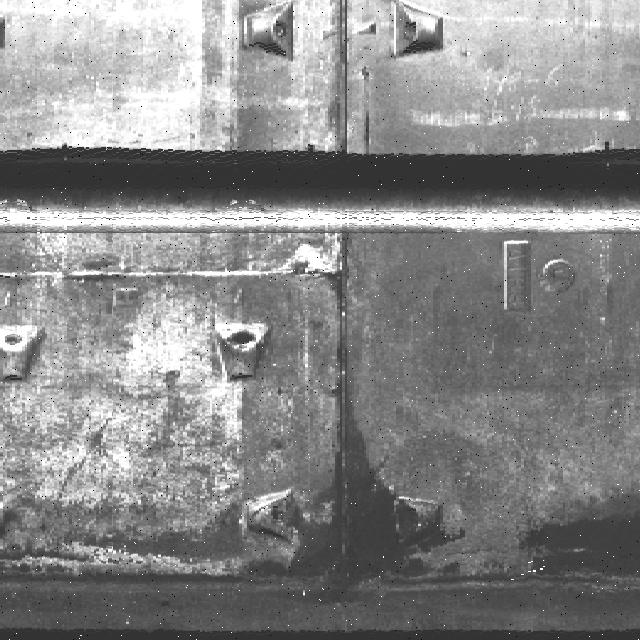leakage: (273, 347, 428, 603), (306, 233, 367, 310)
